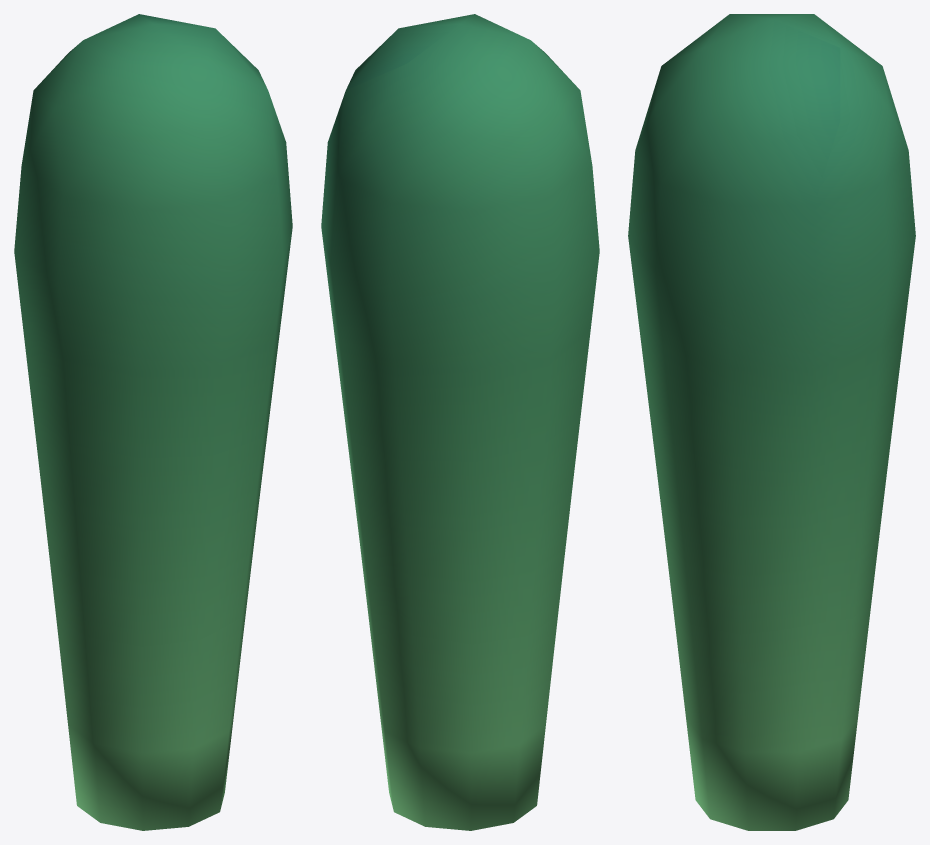
File: DarkerGrass.gltf
The picture shows the model from 3 angles, left to right: view 1: azimuth 30°, elevation 25°; view 2: azimuth 150°, elevation 25°; view 3: azimuth 270°, elevation 25°; orthographic projection.
Visible parts, largest first — view 1: DarkerGrass; view 2: DarkerGrass; view 3: DarkerGrass.
Boxes of the visible parts, <box> form: DarkerGrass: <box>14,14,292,830</box>; DarkerGrass: <box>321,14,599,830</box>; DarkerGrass: <box>628,14,915,830</box>.
Bounding box in the file's own units: 0.1003 × 0.3163 × 0.1054.
Materials: 1 (1 with a texture image).
